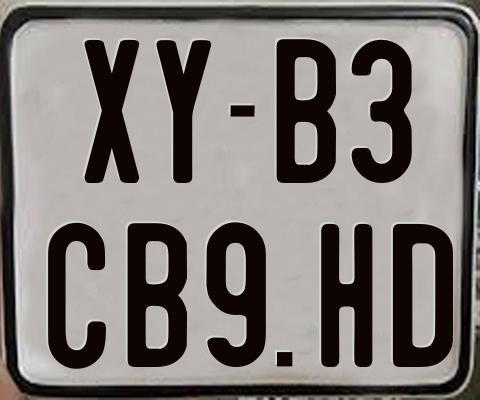3: (350, 38, 411, 185)
9: (205, 222, 269, 371)
B: (127, 220, 189, 369), (274, 39, 334, 183)
C: (48, 220, 112, 368)
D: (391, 222, 456, 368)
H: (319, 221, 375, 369)
X: (83, 37, 138, 183)
Y: (154, 40, 210, 187)
